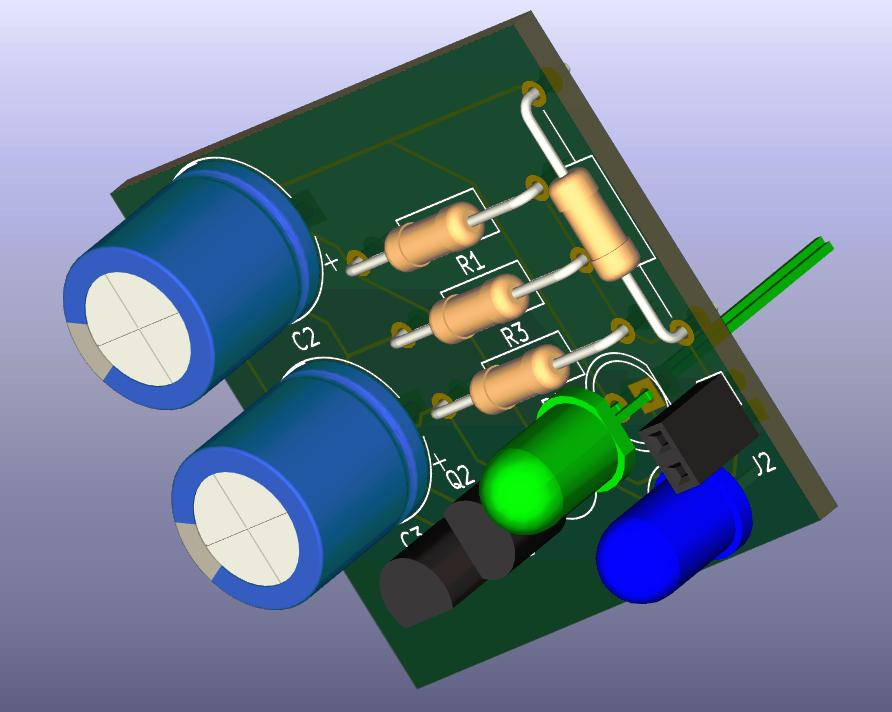blue_led: (593, 468, 754, 603)
capacitor: (60, 159, 318, 410), (171, 360, 422, 610)
green_led: (478, 389, 642, 536)
resistor: (550, 168, 647, 280), (429, 270, 537, 348), (382, 196, 486, 277), (470, 344, 574, 420), (560, 154, 597, 173)
transistor: (444, 480, 565, 583), (374, 529, 470, 632)
